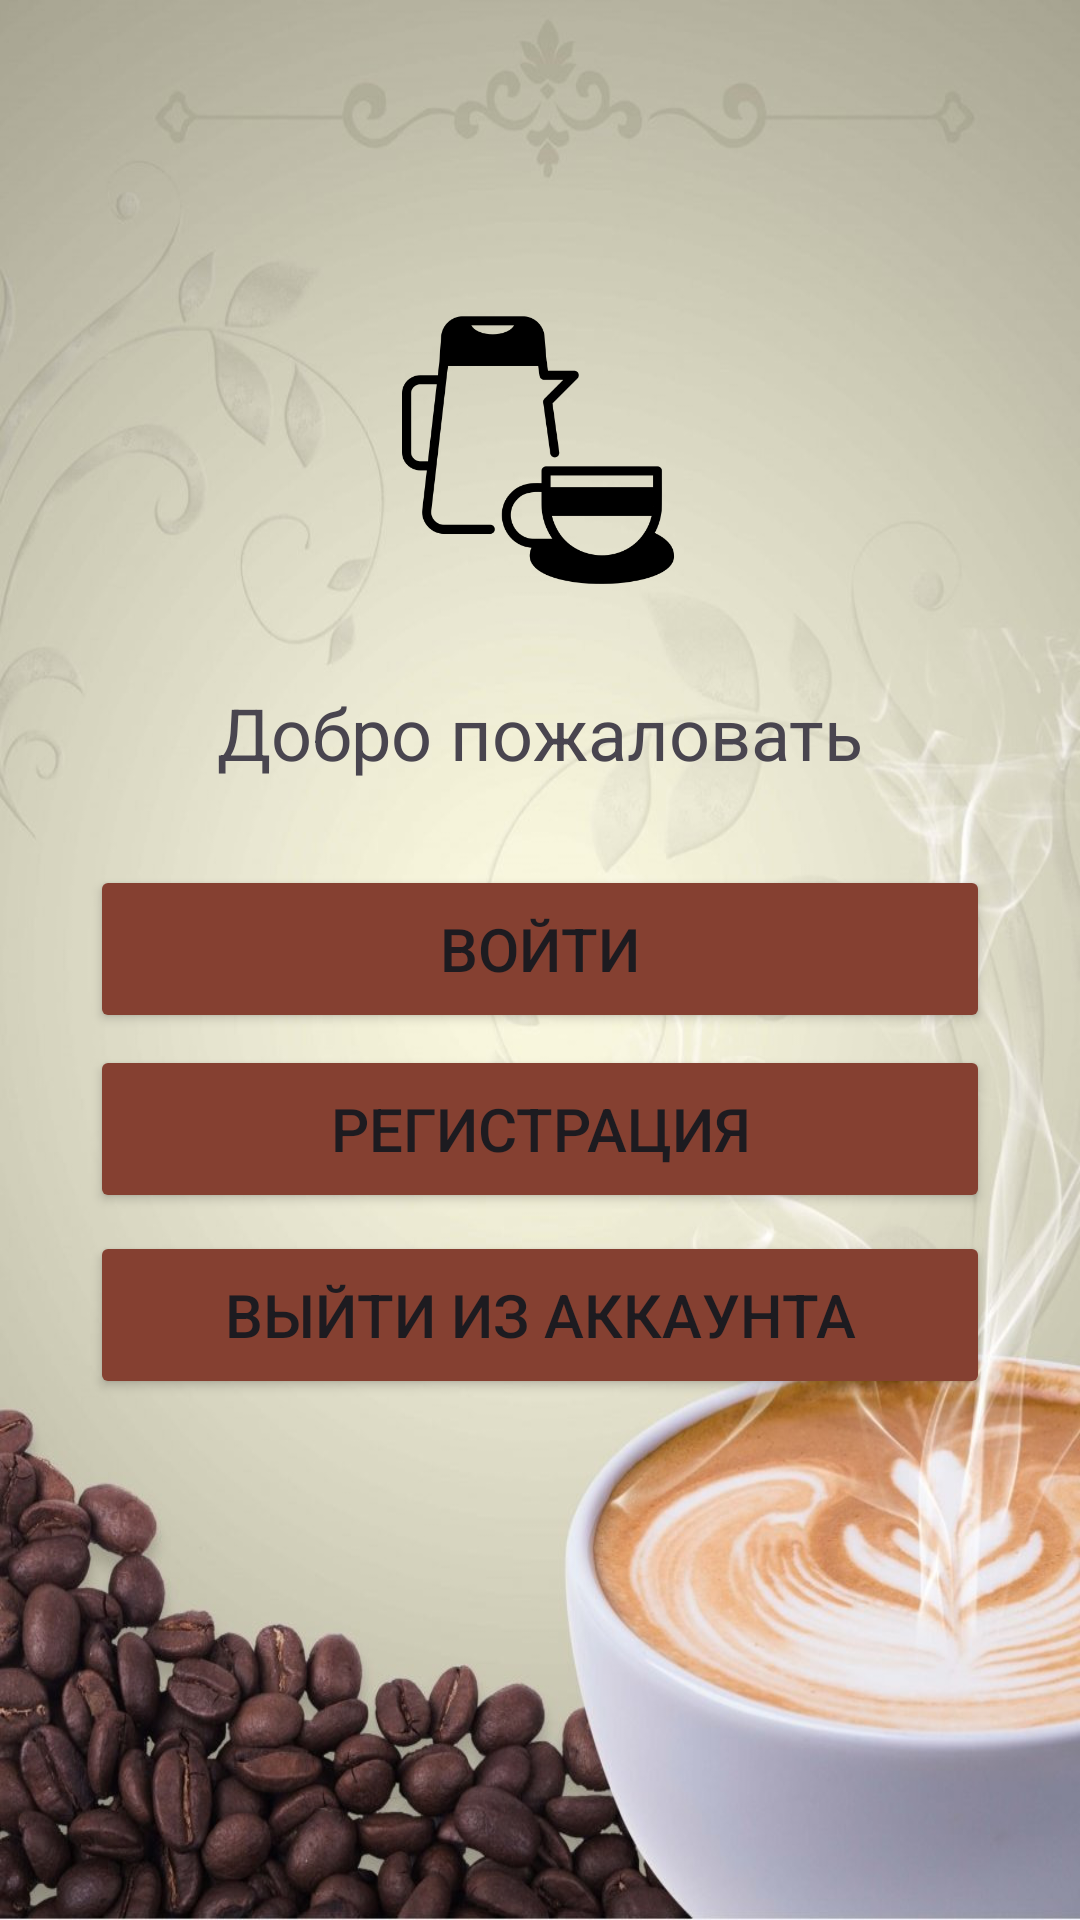

Screen size 1080x1920. Icon name, then its center in pixels as point (x, y):
drink: point (538, 458)
